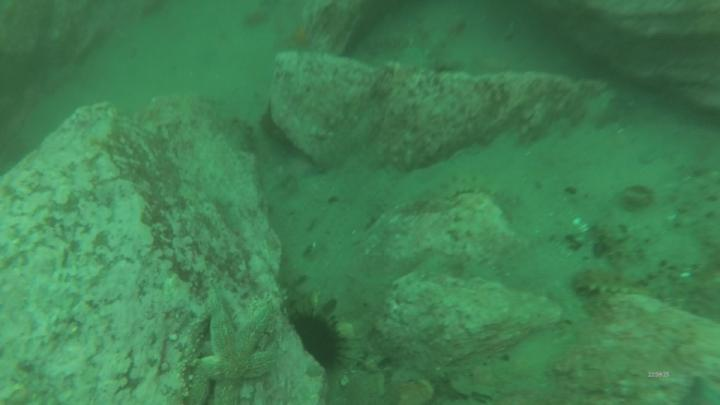echinus: (293, 313, 342, 370)
holothurian: (574, 271, 644, 298), (446, 179, 496, 198)
starfish: (190, 305, 276, 402)
